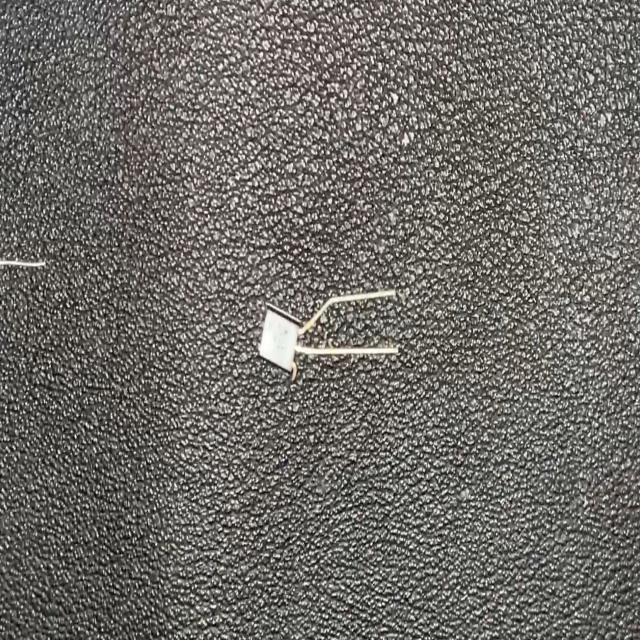missing-leg: (258, 284, 400, 388)
